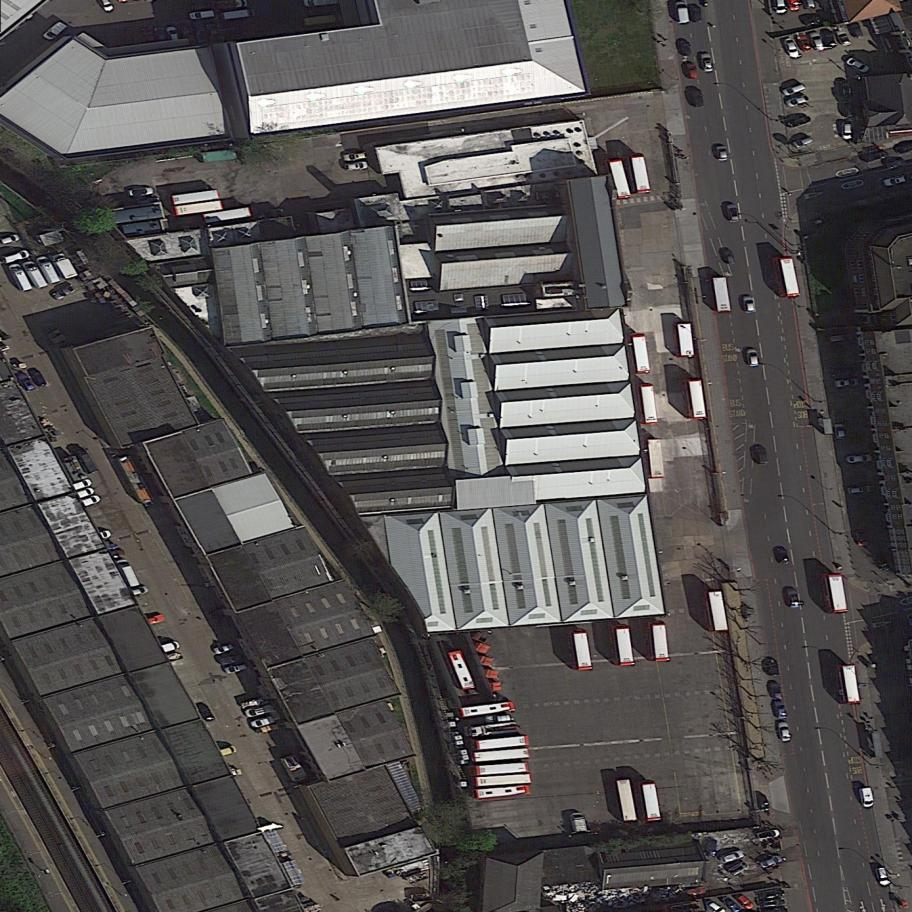large-vehicle: (446, 646, 478, 693), (819, 570, 850, 617), (771, 254, 801, 301), (605, 156, 633, 203), (833, 662, 862, 707), (565, 629, 594, 673), (458, 699, 517, 720), (49, 246, 80, 285), (609, 624, 636, 668), (202, 205, 254, 227), (646, 621, 672, 663), (170, 186, 222, 207), (473, 783, 532, 801), (473, 734, 531, 752), (640, 780, 663, 825), (629, 153, 653, 196), (463, 721, 520, 739), (471, 761, 531, 778), (616, 778, 638, 824), (472, 747, 531, 764), (708, 589, 730, 633), (172, 199, 225, 217), (686, 378, 708, 420), (473, 773, 532, 788), (631, 333, 652, 375), (639, 383, 659, 427), (646, 438, 666, 480), (712, 275, 733, 314), (676, 322, 697, 359), (568, 810, 589, 836), (212, 0, 248, 12)
small-vehicle: (20, 255, 51, 293), (5, 259, 35, 297), (33, 251, 62, 288), (114, 556, 141, 592), (40, 18, 70, 45), (242, 701, 277, 721), (1, 247, 32, 268), (76, 448, 98, 477), (844, 54, 872, 76), (50, 282, 78, 304), (217, 7, 257, 22), (732, 889, 758, 912), (782, 34, 803, 62), (303, 13, 345, 27), (725, 858, 751, 879), (807, 28, 827, 55), (716, 848, 746, 866), (16, 369, 37, 394), (248, 714, 277, 732), (758, 853, 785, 872), (860, 149, 890, 166), (216, 651, 246, 668), (794, 31, 814, 56), (856, 785, 875, 811), (152, 640, 181, 657), (781, 81, 808, 99), (845, 482, 877, 497), (785, 113, 813, 130), (673, 0, 691, 26), (28, 367, 48, 390), (784, 93, 811, 110), (196, 702, 215, 726), (820, 27, 838, 52), (756, 887, 786, 902), (775, 719, 793, 744), (210, 744, 238, 760), (755, 827, 783, 843), (880, 174, 909, 189), (137, 613, 166, 628), (880, 156, 907, 172), (771, 698, 789, 722), (210, 641, 237, 657), (223, 661, 250, 677), (873, 864, 890, 889), (834, 27, 853, 49), (86, 529, 112, 545), (773, 544, 791, 567), (753, 443, 770, 467), (783, 586, 800, 610), (75, 494, 102, 509), (140, 26, 158, 48), (126, 186, 156, 199), (842, 453, 877, 464), (699, 51, 715, 75), (791, 135, 815, 151), (71, 486, 96, 501), (187, 9, 215, 22), (342, 160, 370, 173), (69, 478, 93, 493), (745, 347, 761, 369), (153, 25, 169, 47), (838, 78, 854, 100), (832, 377, 861, 389), (848, 21, 865, 41), (720, 247, 737, 267), (123, 585, 149, 598), (689, 88, 705, 109), (341, 151, 369, 163), (767, 680, 783, 701), (764, 657, 780, 678), (758, 897, 786, 909), (741, 293, 756, 314), (726, 203, 741, 224), (678, 38, 693, 58), (165, 24, 180, 44), (756, 793, 771, 813), (485, 714, 512, 725), (828, 333, 855, 344), (840, 101, 856, 119), (833, 421, 848, 440), (840, 121, 854, 141), (684, 62, 699, 80), (207, 22, 221, 41), (704, 839, 718, 858), (855, 530, 870, 547), (689, 5, 703, 23), (716, 145, 729, 162)
